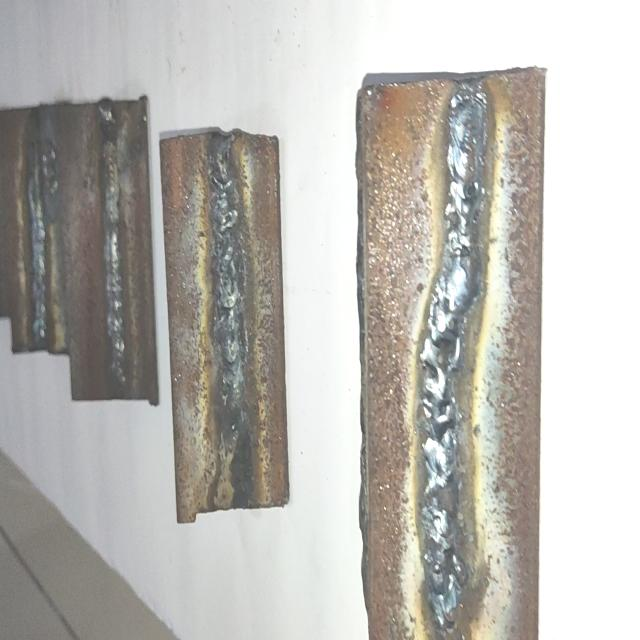Bad Weld: (420, 88, 485, 624), (212, 145, 246, 399), (30, 202, 47, 341)
Defect: (418, 306, 467, 617), (428, 96, 486, 292), (207, 377, 257, 514), (28, 121, 59, 202)
Good Weld: (102, 110, 126, 395)
